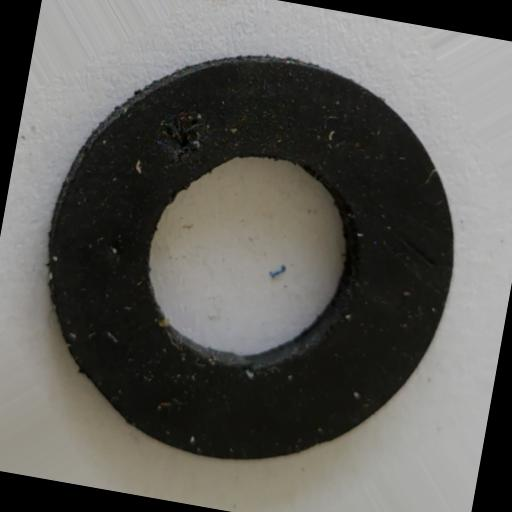defect: (152, 104, 212, 168)
